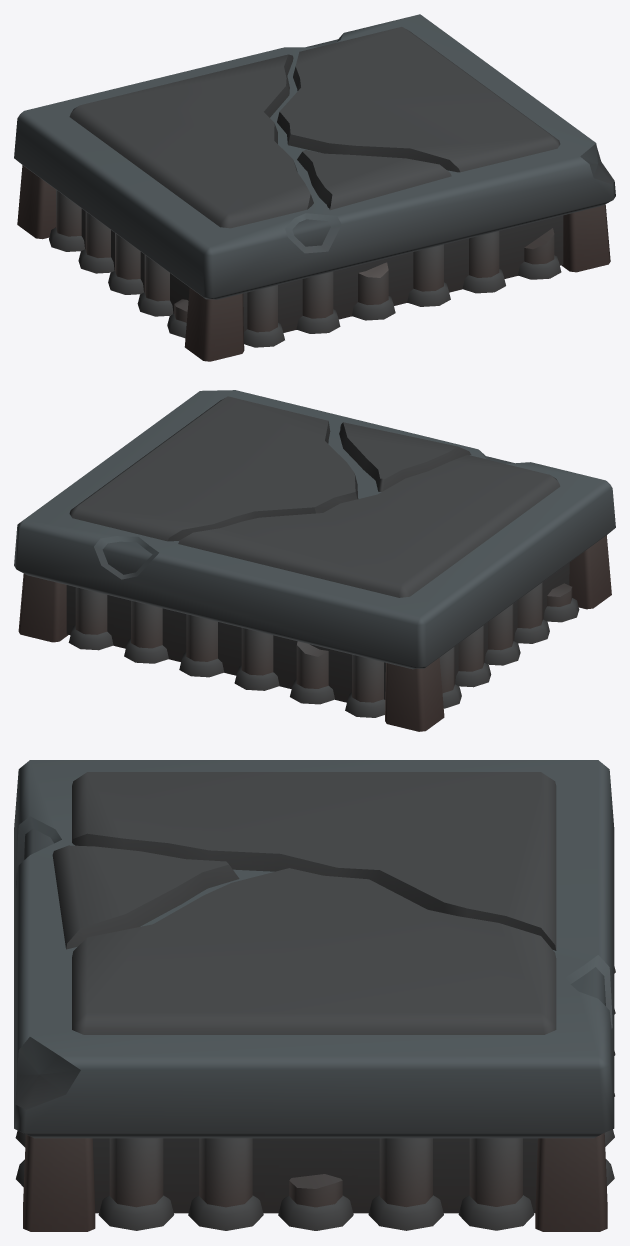
File: inferno-pedestal-big-001.glb
The picture shows the model from 3 angles, top to bottom: view 1: azimuth 30°, elevation 25°; view 2: azimuth 150°, elevation 25°; view 3: azimuth 270°, elevation 25°; orthographic projection. The views are drawn at different scales.
Visible parts, largest first — view 1: PedestalBig_001; view 2: PedestalBig_001; view 3: PedestalBig_001.
Part boxes in pixels (x1=…): PedestalBig_001: x1=14, y1=14, x2=615, y2=361; PedestalBig_001: x1=14, y1=390, x2=615, y2=731; PedestalBig_001: x1=14, y1=760, x2=615, y2=1231.
Bounding box in the file's own units: 21.44 × 6.1 × 17.68.
Materials: 1 (1 with a texture image).
